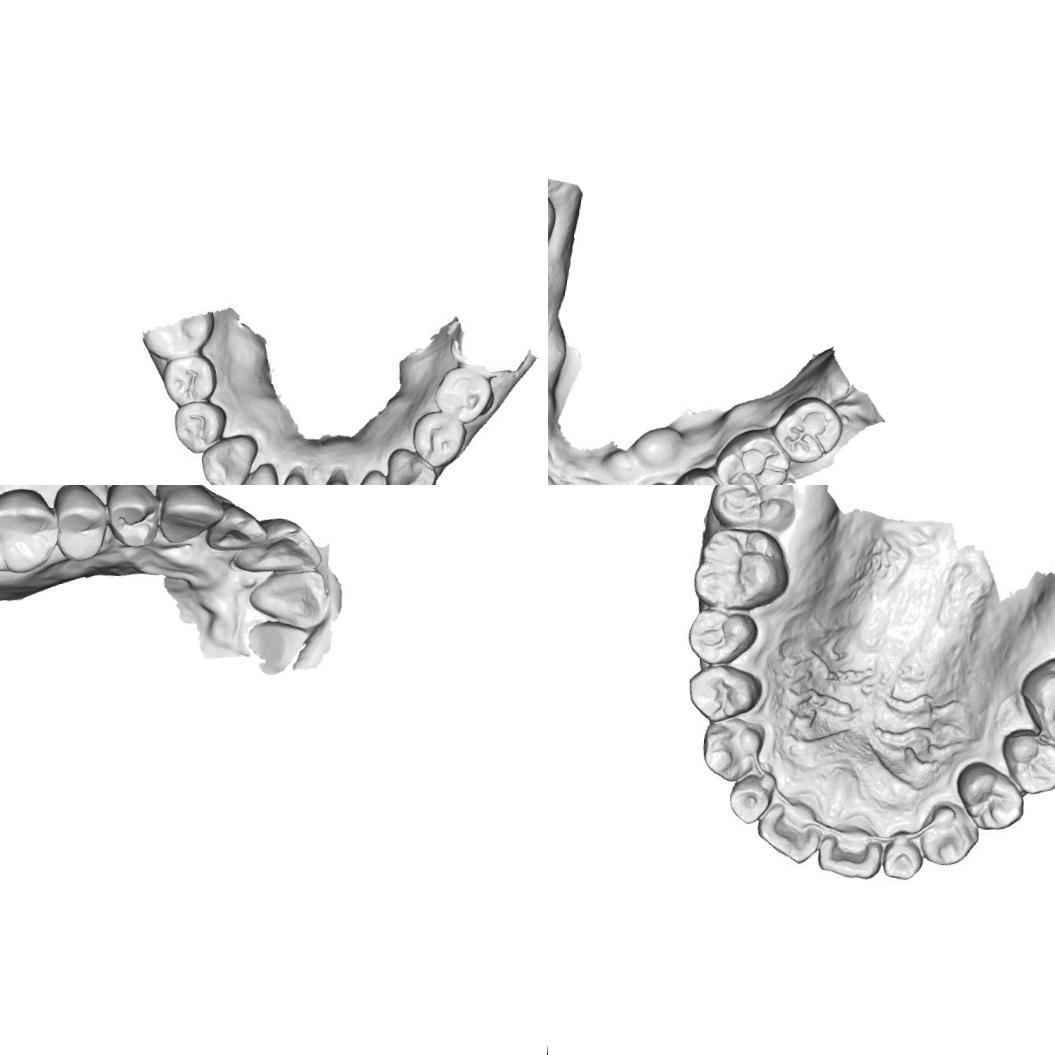canine: (916, 796, 984, 870), (696, 714, 765, 786), (150, 485, 228, 548), (194, 429, 257, 485), (382, 446, 439, 485)
incisor: (232, 513, 327, 580), (243, 563, 331, 631), (812, 810, 886, 882), (752, 798, 821, 868), (204, 500, 270, 555), (722, 766, 780, 828), (881, 830, 925, 882), (232, 459, 284, 485), (267, 468, 317, 485), (349, 474, 399, 485)
molar: (689, 523, 792, 614), (0, 485, 63, 576), (769, 392, 845, 467), (710, 423, 794, 485), (706, 485, 800, 533), (1013, 650, 1055, 752)
premolar: (950, 756, 1028, 834), (682, 602, 762, 668), (683, 660, 765, 723), (48, 485, 112, 564), (994, 723, 1055, 798), (101, 485, 162, 549), (431, 364, 494, 425), (408, 408, 468, 469), (160, 346, 216, 408), (174, 400, 227, 452), (669, 464, 732, 485)
